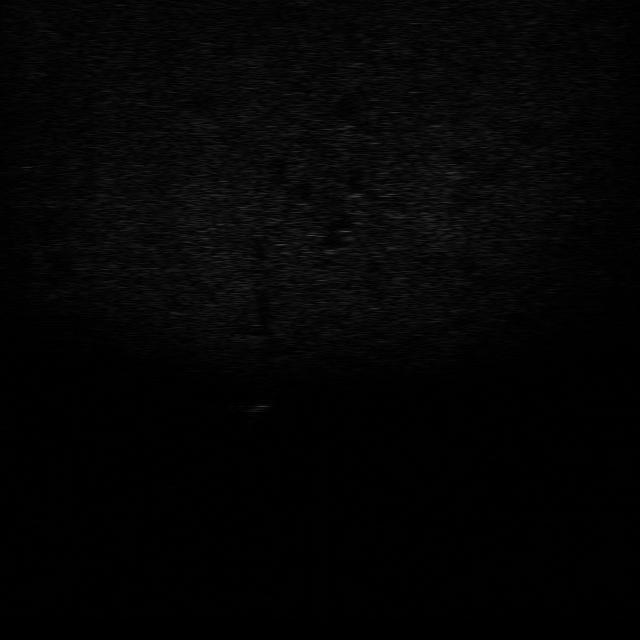human body: (236, 386, 278, 431)
